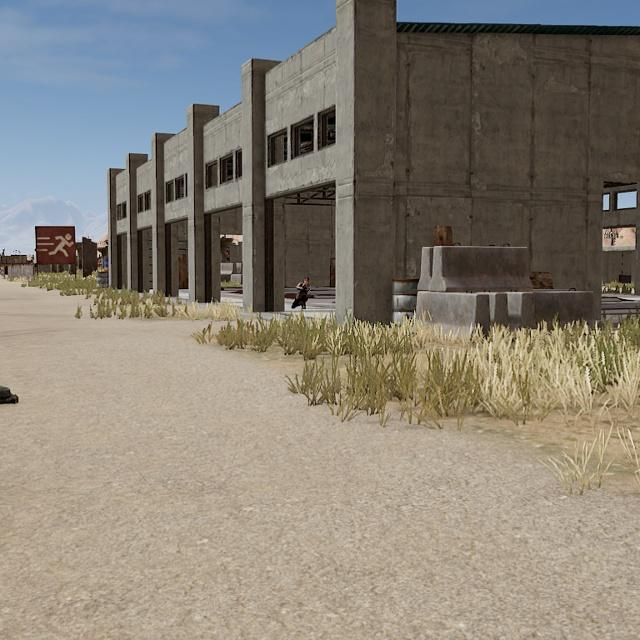head: (302, 276, 310, 287)
people: (288, 276, 314, 312)
